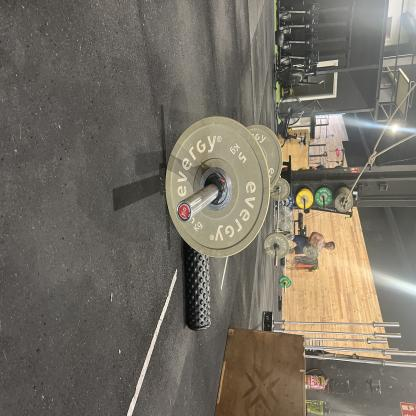barbell: (88, 195, 194, 336)
